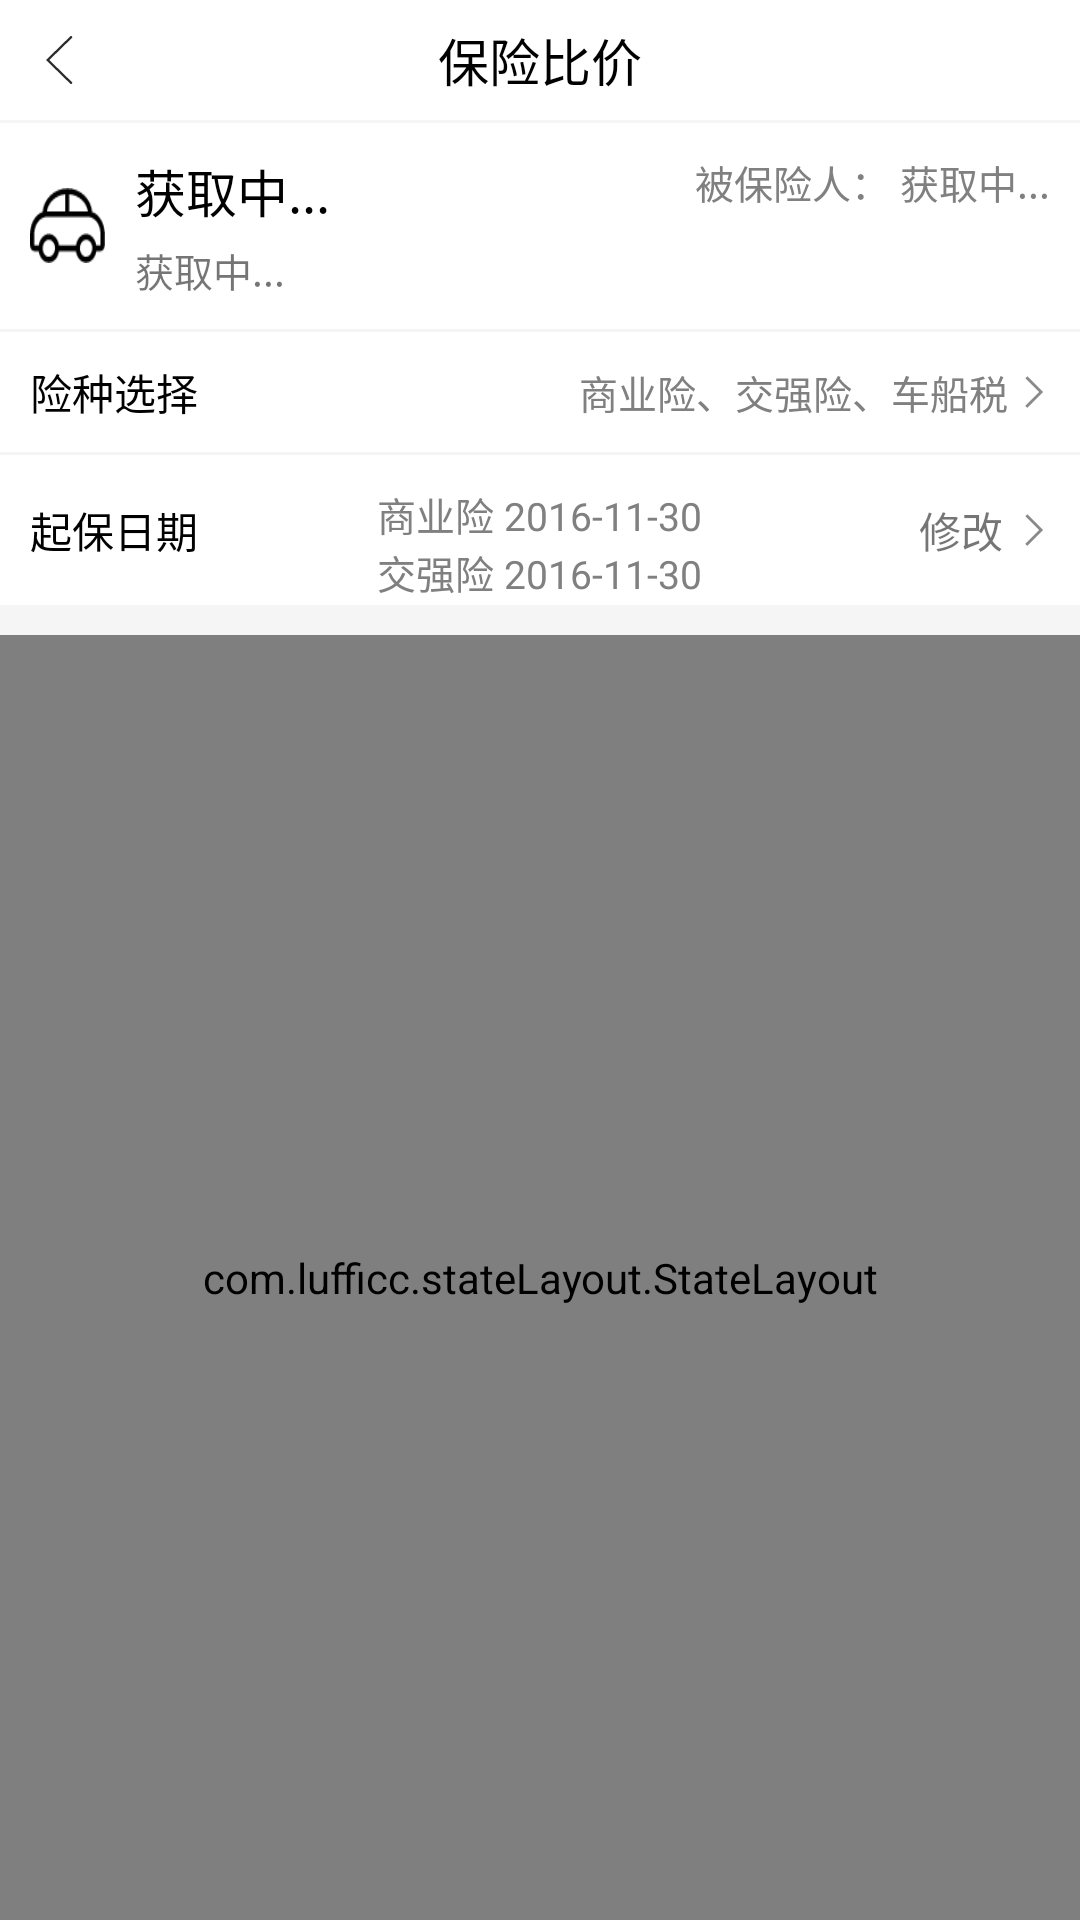

Named icons in this screenshot (1080 x 1920) and their centers, point (x, y):
caricon: point (67, 225)
return: point (59, 60)
right: point (1034, 392), point (1034, 530)
